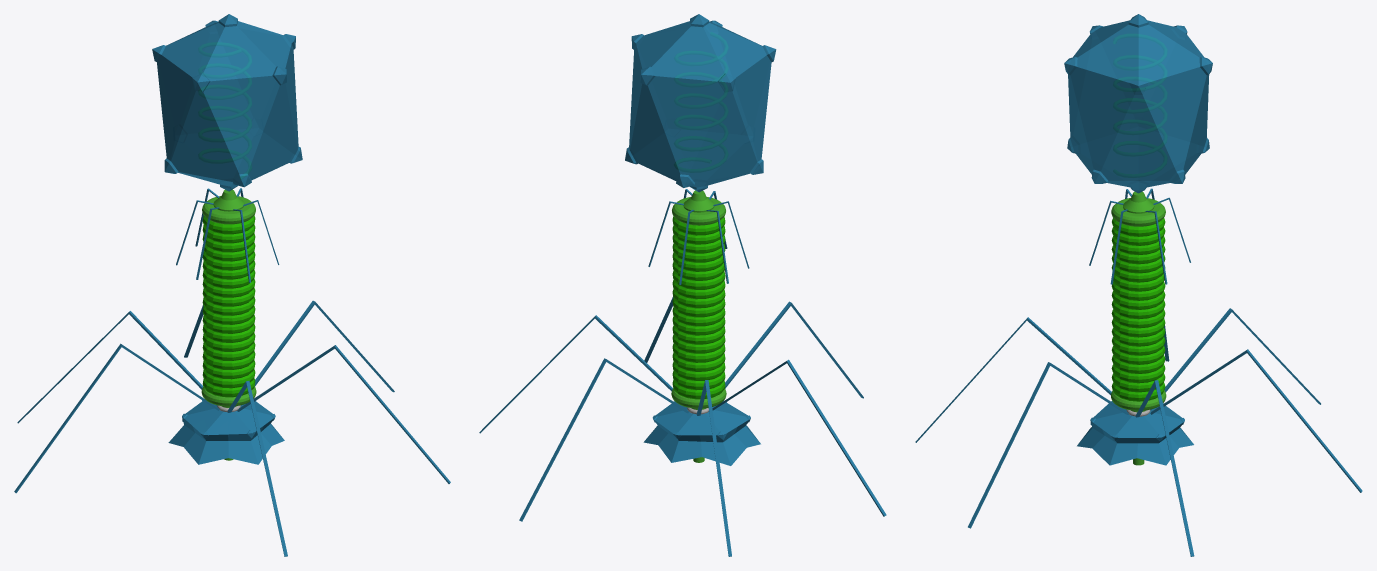
Rendered from Bacteriophage.glb.
3 views of the same model, side by side, from view 1: azimuth 30°, elevation 25°; view 2: azimuth 150°, elevation 25°; view 3: azimuth 270°, elevation 25° (orthographic).
Parts seen in each view (by area): view 1: object 16, object 17, Torus.001_5, object 7, object 15, object 8, object 6, object 4; view 2: object 16, object 17, Torus.001_5, object 5, object 15, object 4, object 8, object 6, Torus.003_9, Torus.014, Torus.005, Torus.010 (+9 smaller); view 3: object 16, object 17, Torus.001_5, object 7, object 5, object 6, object 4, object 8, Torus.003_9.
Boxes of the visible parts, x1,y1,x2,y2 form: object 16: (152,14,302,191); object 17: (168,400,284,464); Torus.001_5: (202,189,255,224); object 7: (237,345,450,483); object 15: (14,343,219,493); object 8: (227,380,287,556); object 6: (240,300,394,405); object 4: (17,311,217,423); object 16: (625,14,776,192); object 17: (643,401,760,465); Torus.001_5: (672,190,725,225); object 5: (519,358,688,521); object 15: (708,359,886,516); object 4: (696,380,731,556); object 8: (725,301,863,398); object 6: (479,315,672,433); Torus.003_9: (671,388,726,462); Torus.014: (672,216,725,235); Torus.005: (672,326,725,344); Torus.010: (672,316,725,335); object 16: (1064,14,1212,193); object 17: (1077,401,1193,465); Torus.001_5: (1111,191,1165,226); object 7: (968,362,1128,528); object 5: (1150,349,1362,492); object 6: (1135,380,1194,556); object 4: (1150,308,1320,410); object 8: (915,317,1111,442); Torus.003_9: (1111,390,1166,465).
Size of the model in its own units: 9.07 by 9.94 by 8.87.
